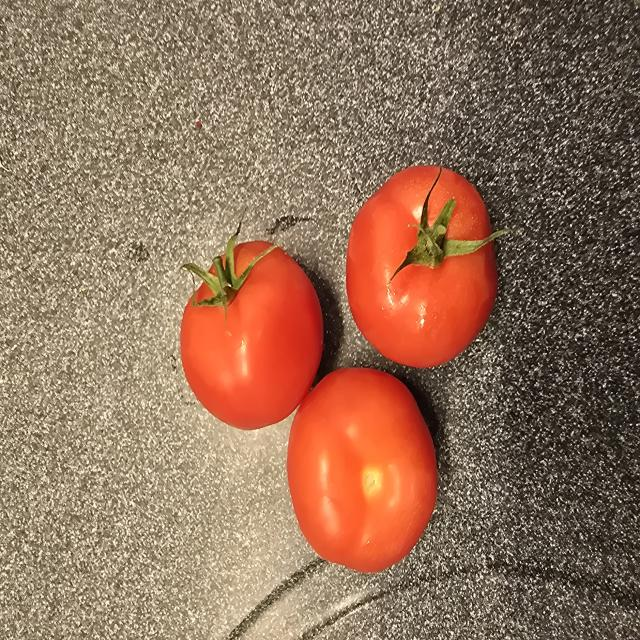Tomato: (287, 368, 437, 572), (346, 166, 497, 367), (180, 225, 323, 429)
